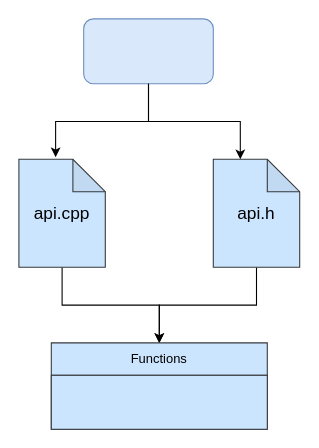
This 319x448 diagram has some shape labels left out. The shapes that lost their labels are listed below. From the top down, each one's centre as x and y in pixels, then its label:
the point at 148,51: API-Module
the point at 158,401: getSatellitePosition(...)
